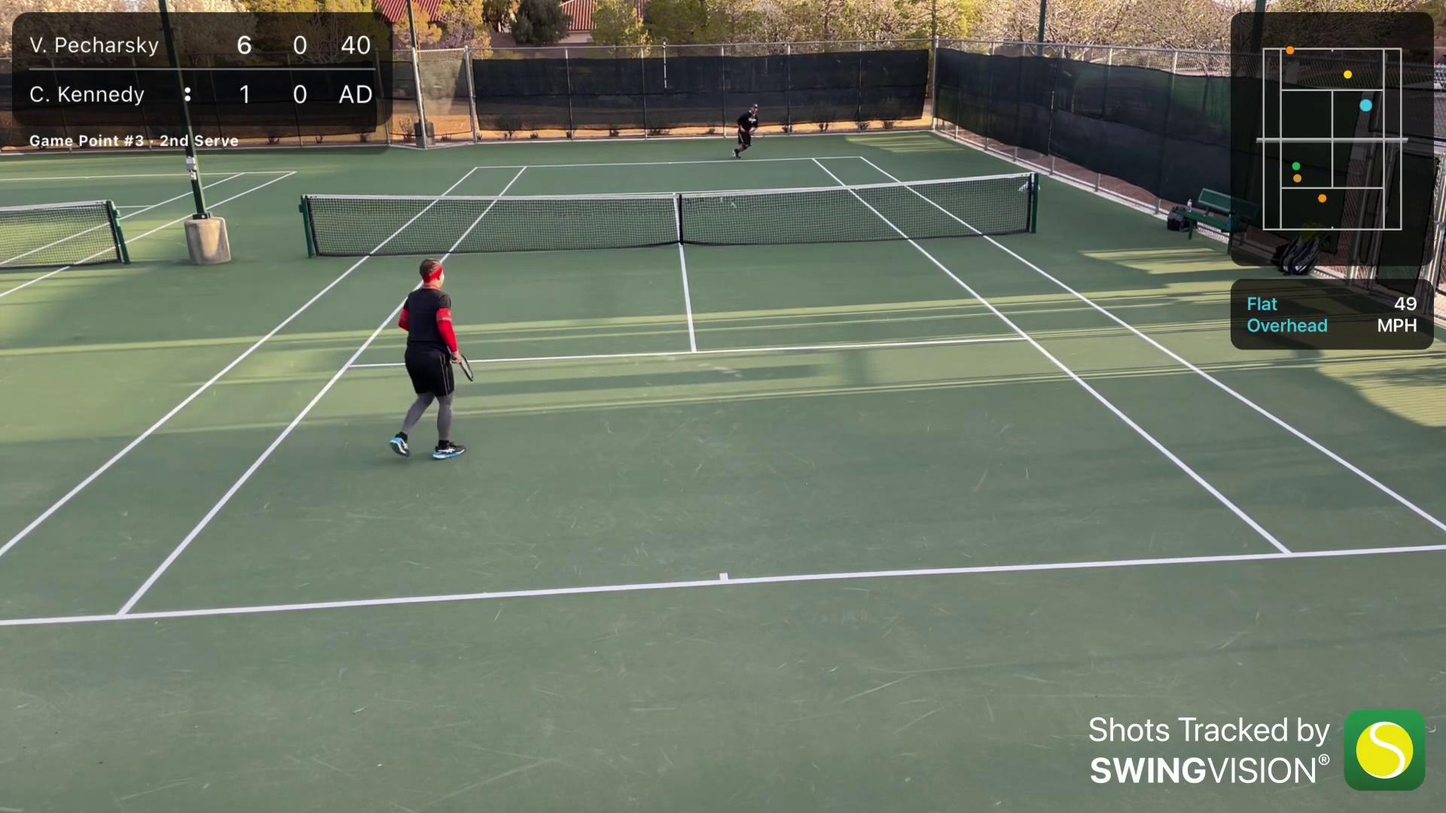ball: (854, 187, 861, 192)
